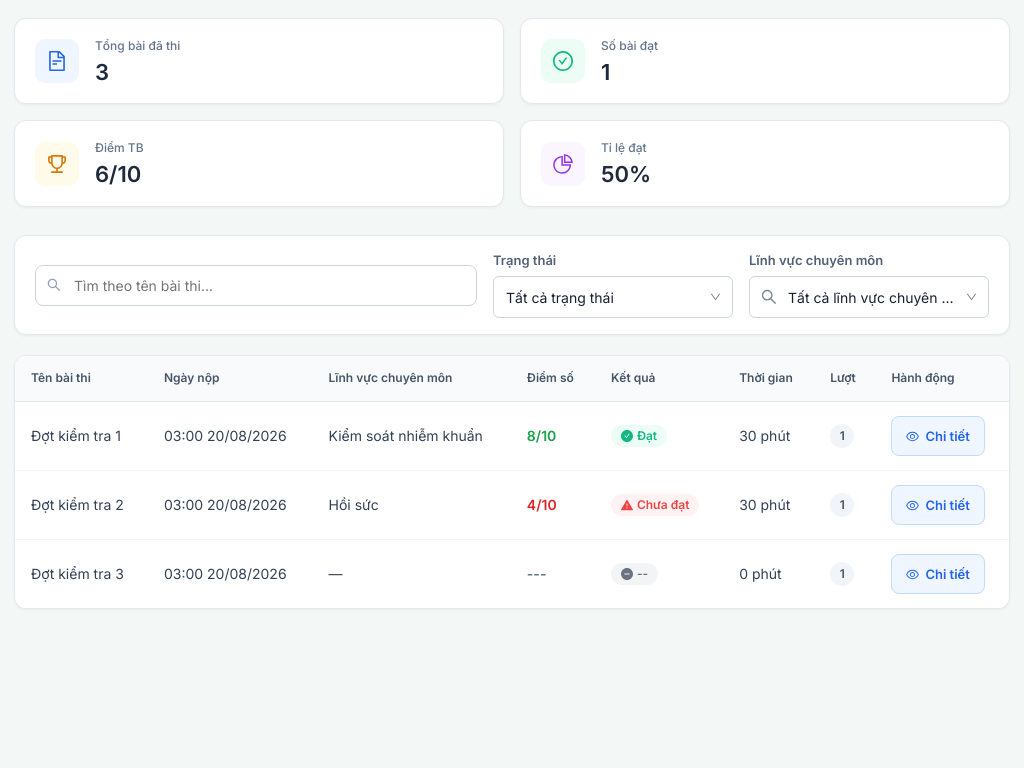
Test: ExamHistoryScreen - chi tiết lượt thi › chịu được chi tiết không có câu hỏi
Expected: the text "Đợt kiểm tra 1" is shown, [15,402,148,471]
Step 1. Click the button "Chi tiết" in the row of "Đợt kiểm tra 1" → (938, 436), box [891,416,985,456]
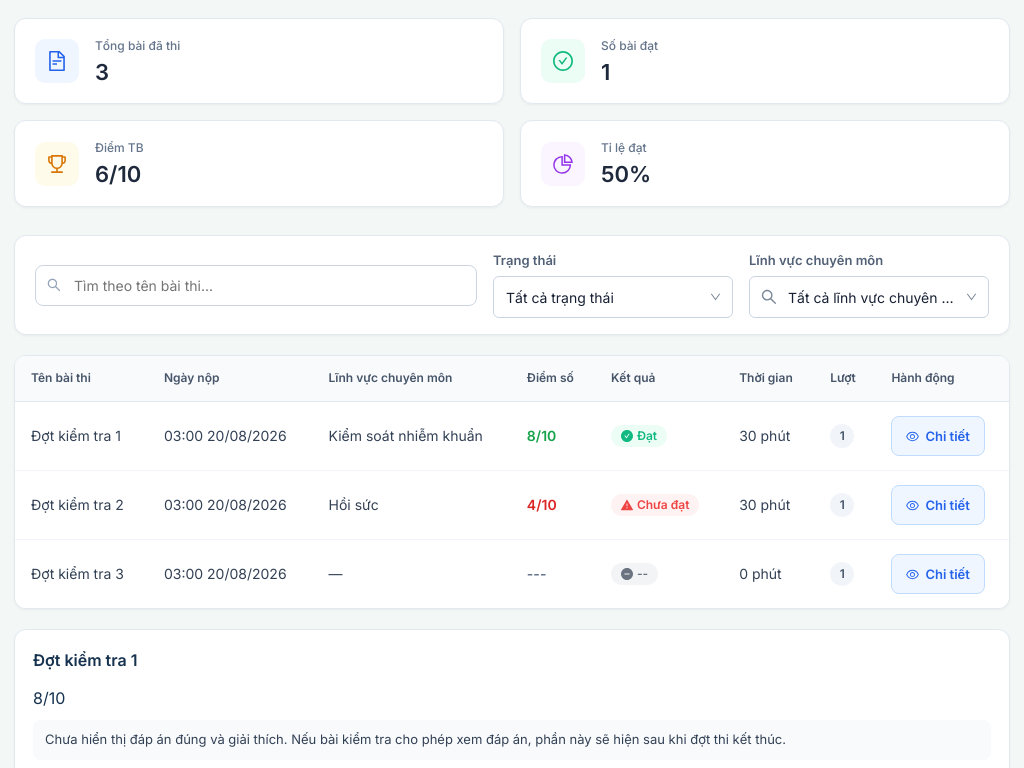
Result: the text "Chưa hiển thị đáp án đúng" is shown at [45,731,786,747]
